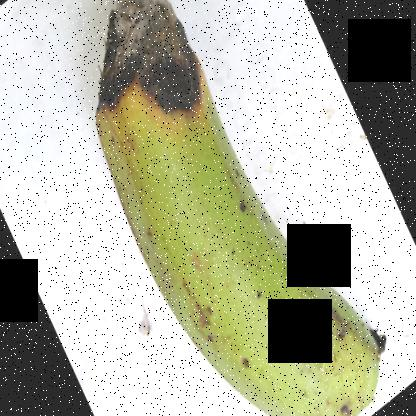rotten: (85, 1, 236, 181)
unripe: (107, 148, 375, 415)
